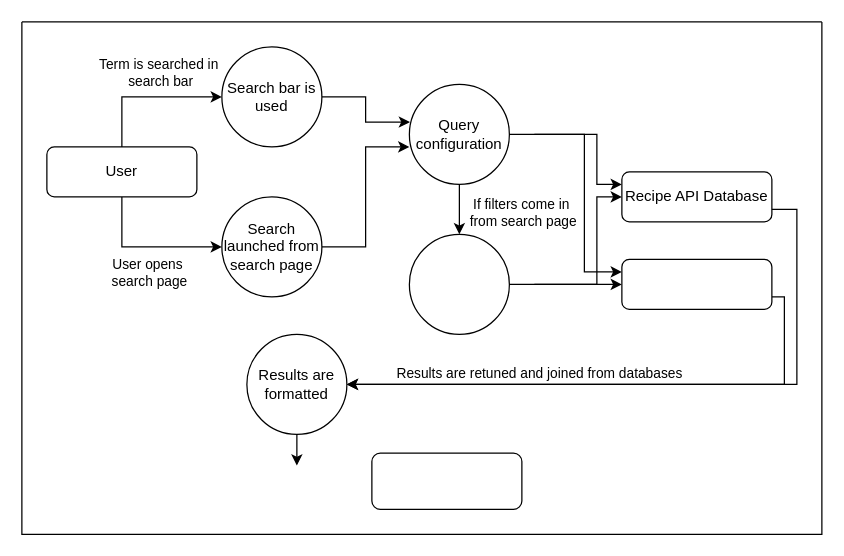
Image size: 844x556. Some labels were removed from this diagram. Each missing label, with the box of its shape:
Filters added as conditions: (408, 233, 509, 334)
Local Recipe Database: (621, 258, 772, 309)
Search Page: (371, 452, 522, 509)
